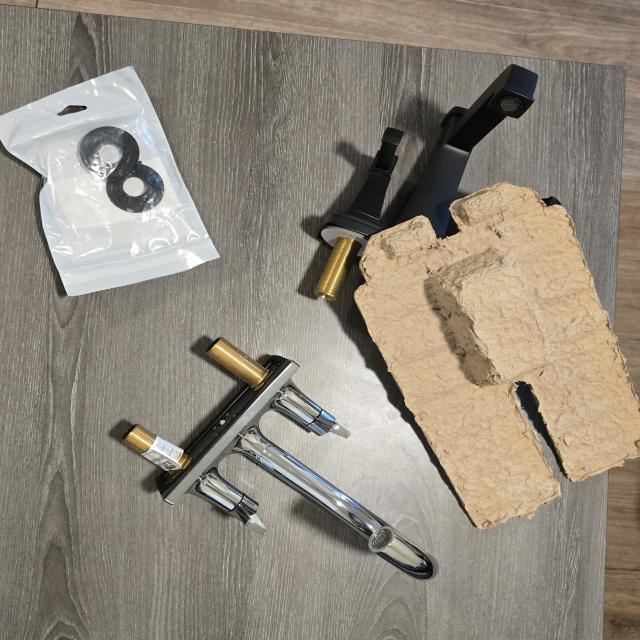10: (122, 338, 437, 579)
13: (0, 67, 219, 296)
9o: (399, 64, 538, 237), (315, 126, 405, 300), (541, 196, 561, 207)
